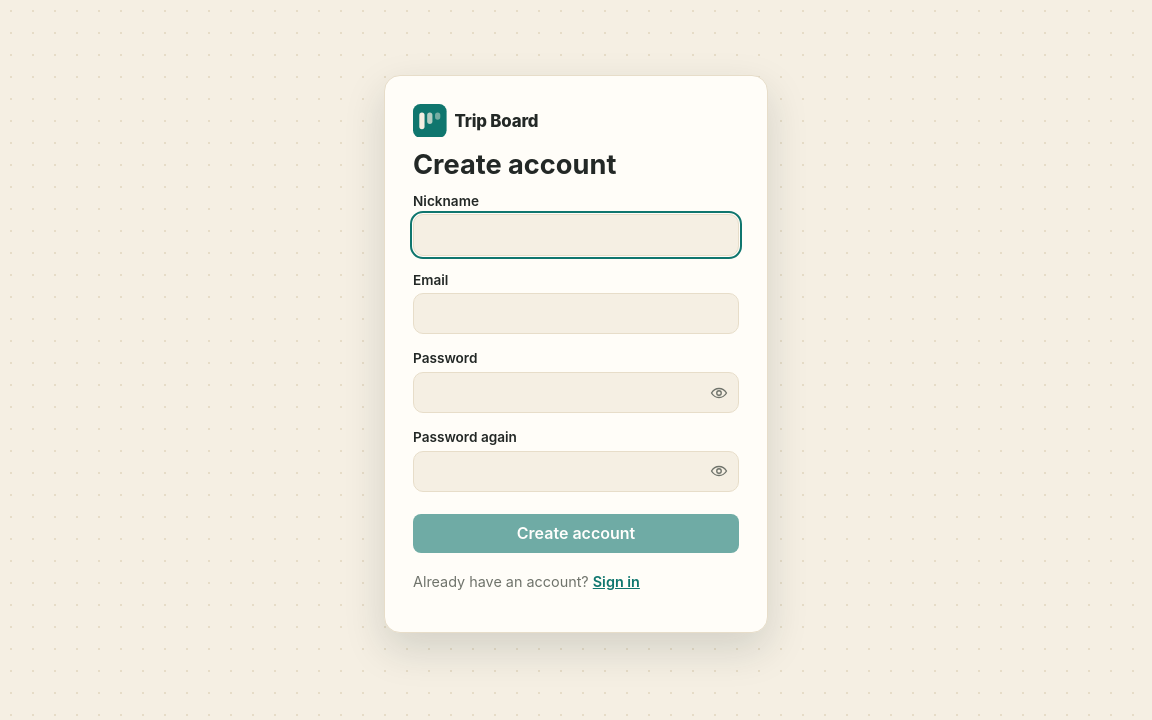
Test: submitting the sign-up form › registers without sending the confirmation to the server
Type "Ada" into the field labelled "Nickname". click: (576, 235)
box: [413,214,739,256]
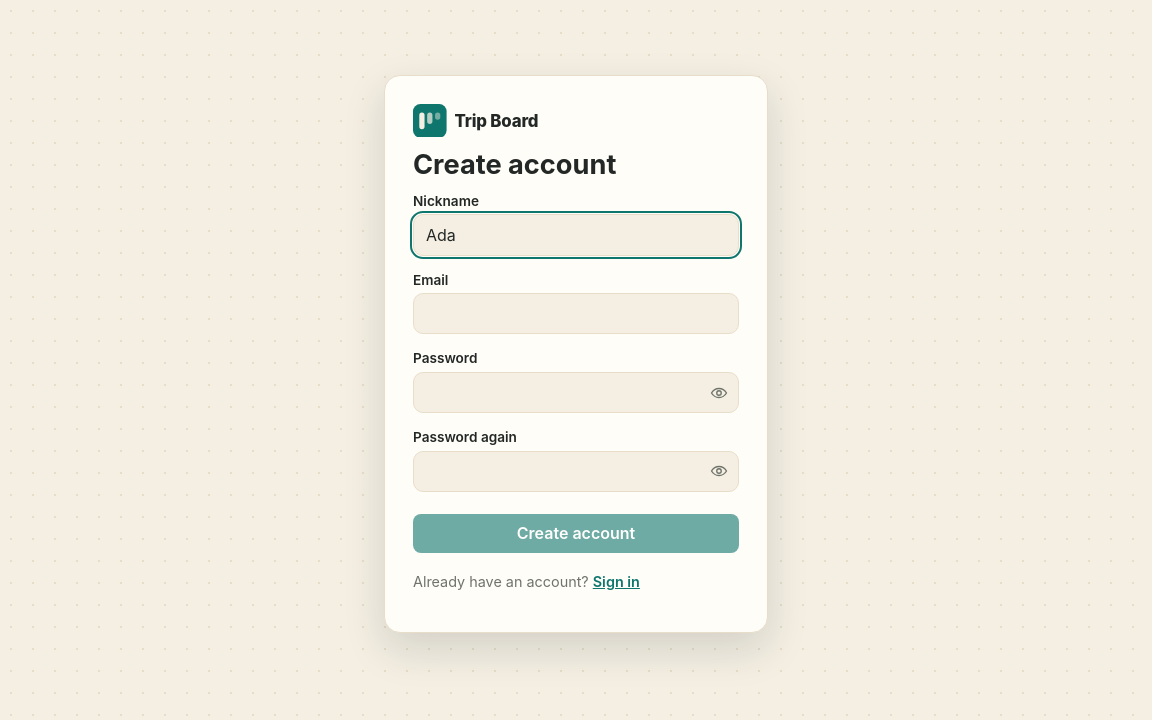
Type "ada@example.com" into the field labelled "Email". click: (576, 314)
box: [413,293,739,334]
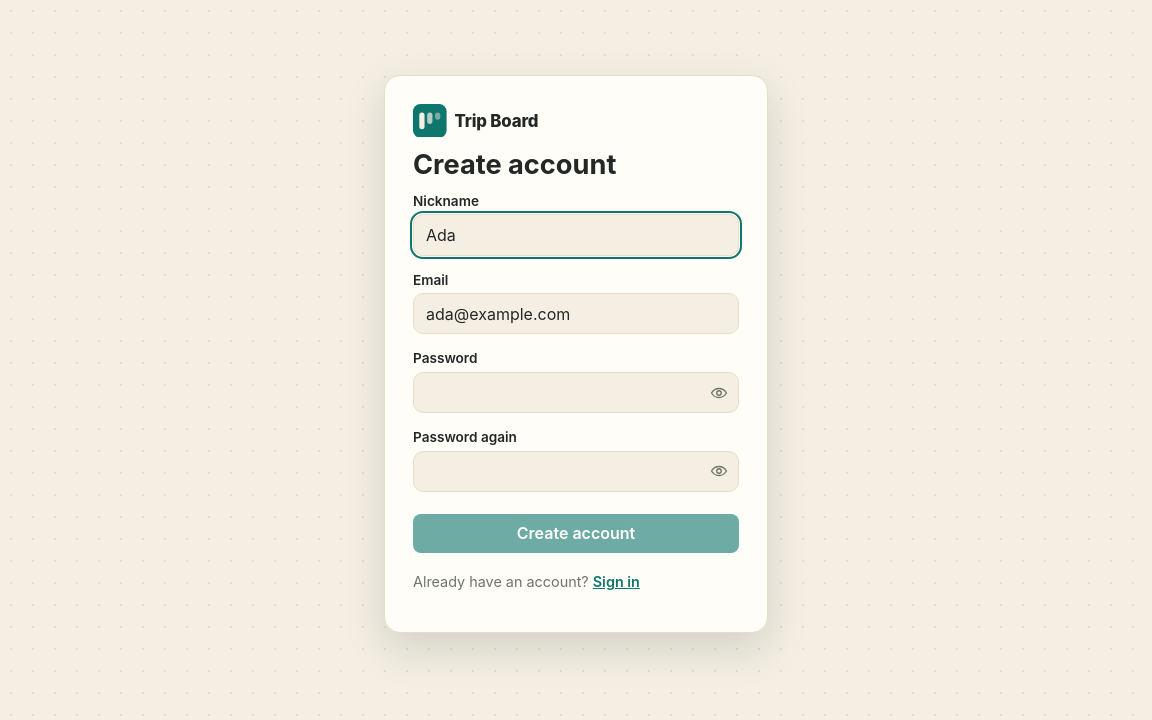
Type "Trip2026!" into the password field labelled "Password". click: (576, 393)
box: [413,372,739,413]
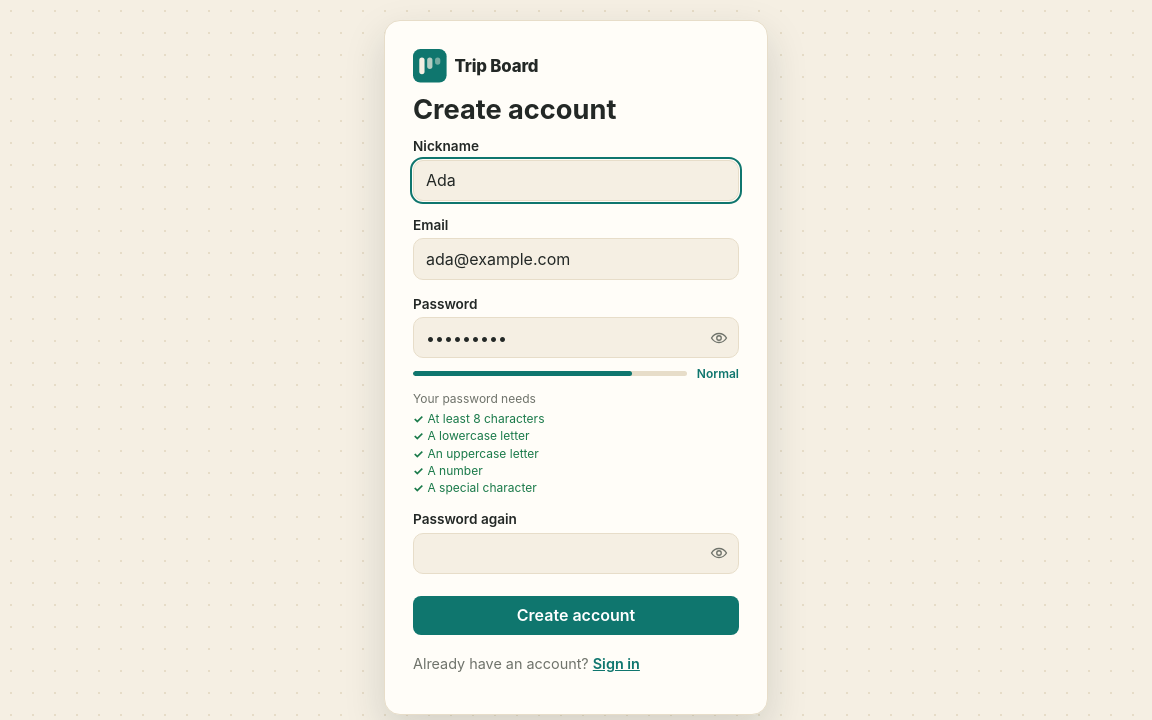
Type "Trip2026!" into the password field labelled "Password again". click: (576, 554)
box: [413,533,739,574]
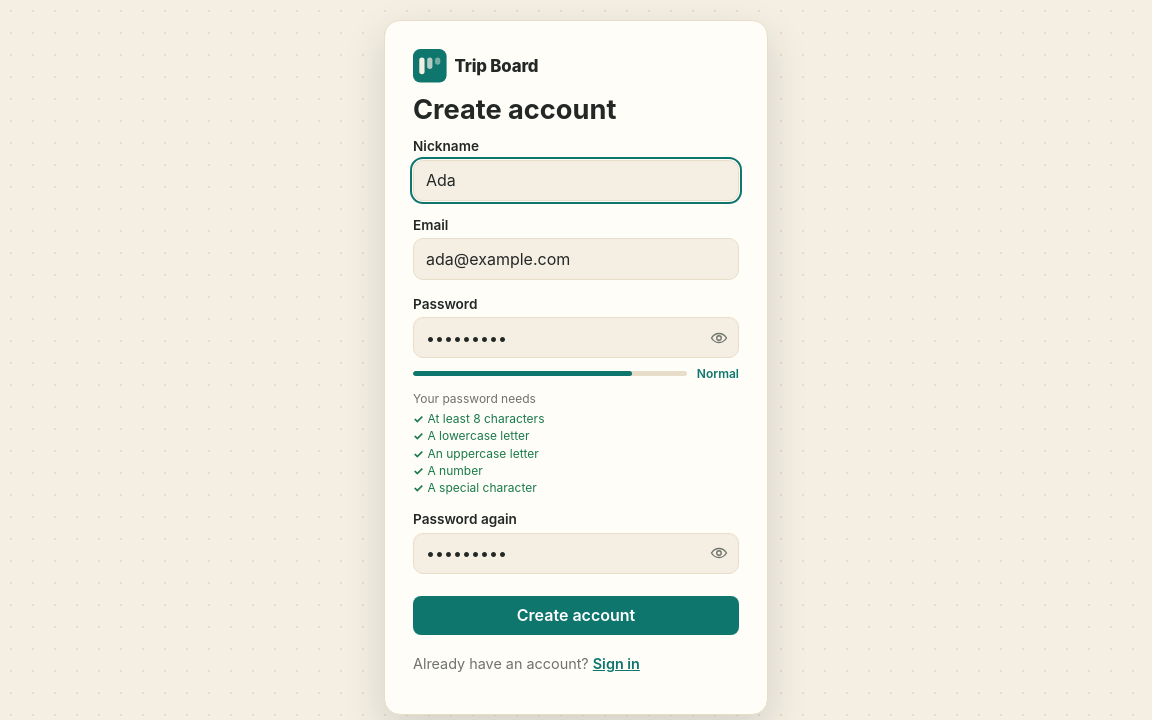
Click the button "Create account". click: (576, 615)
box: [413,596,739,635]
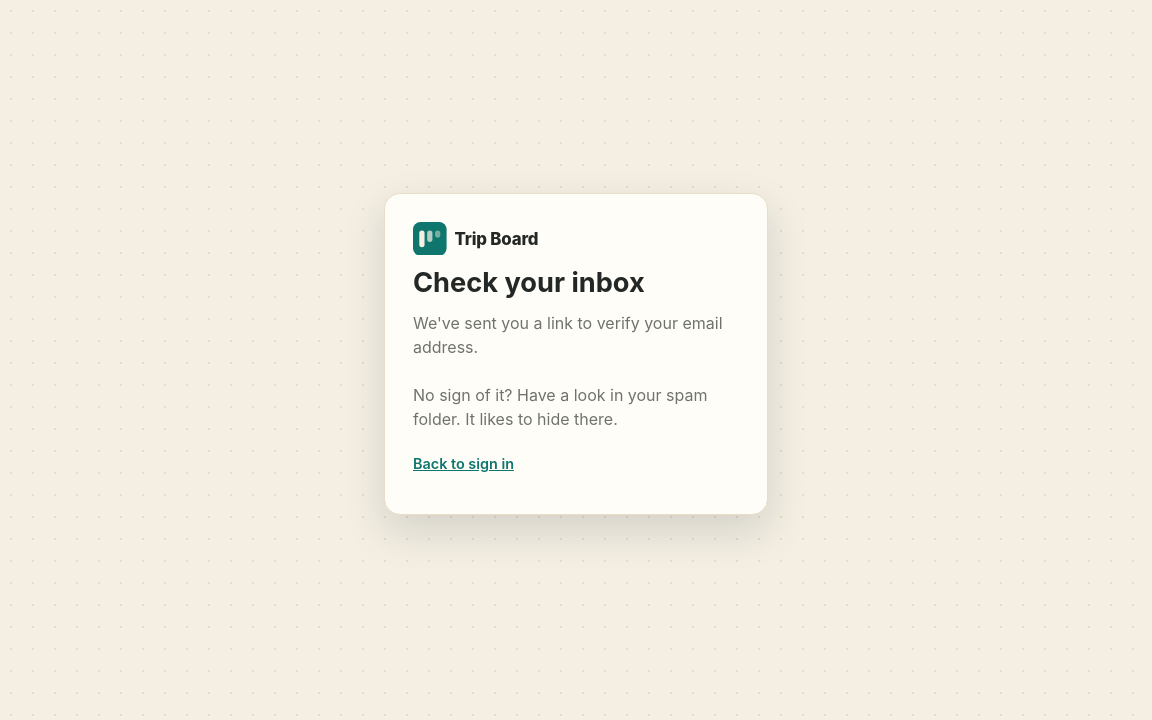
expect the heading "Check your inbox" is shown: met, box [413,266,645,299]
